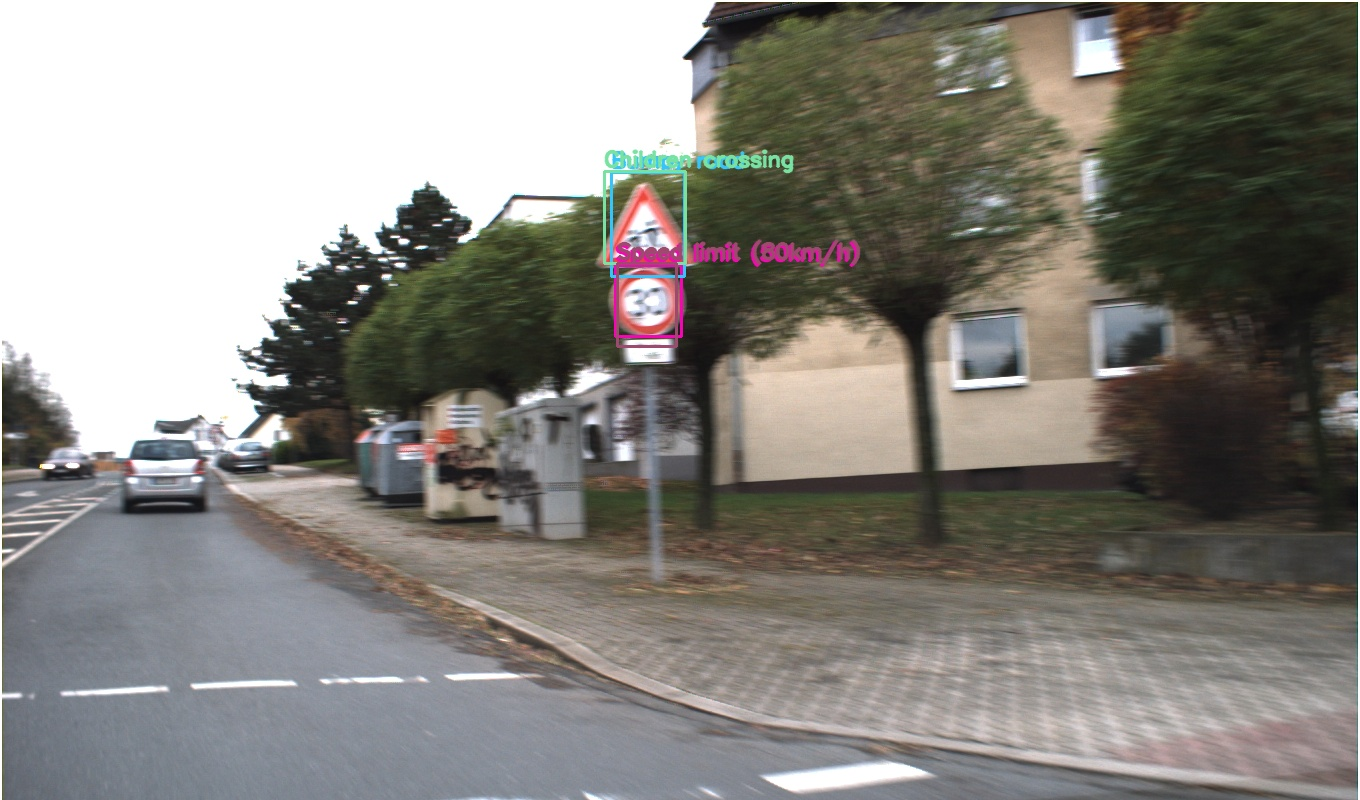Stop: (56, 315, 104, 363), (657, 319, 702, 365)
